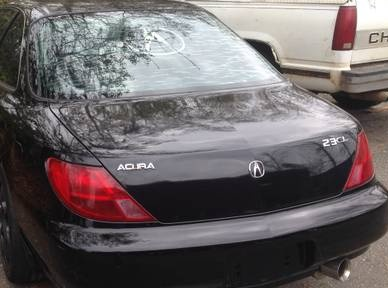acura: (1, 1, 388, 282)
